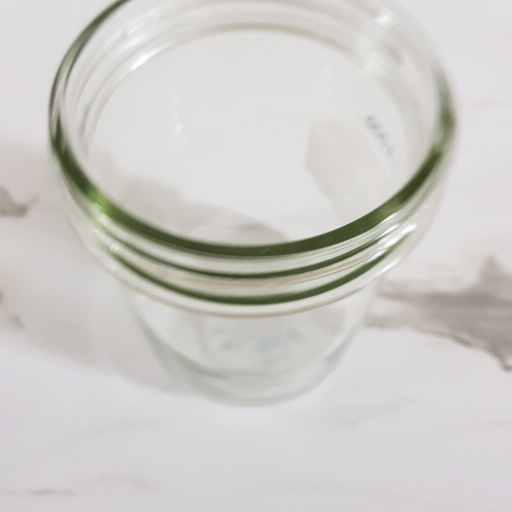Glass_5: (49, 3, 461, 404)
